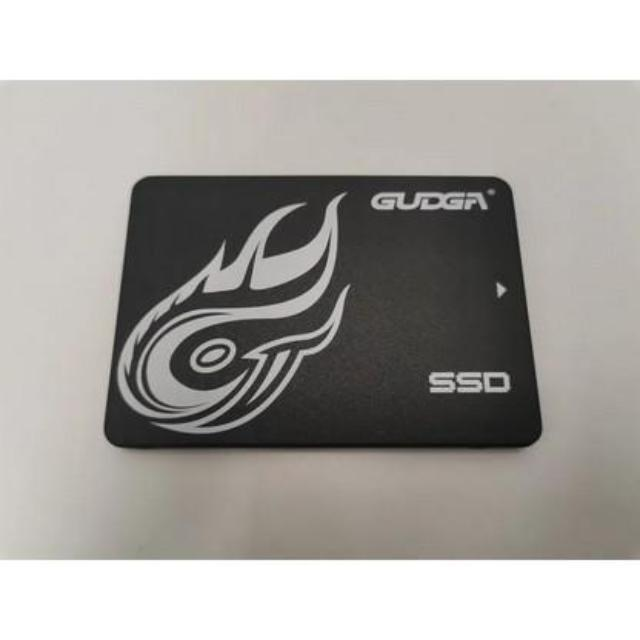DISK: (102, 166, 553, 458)
